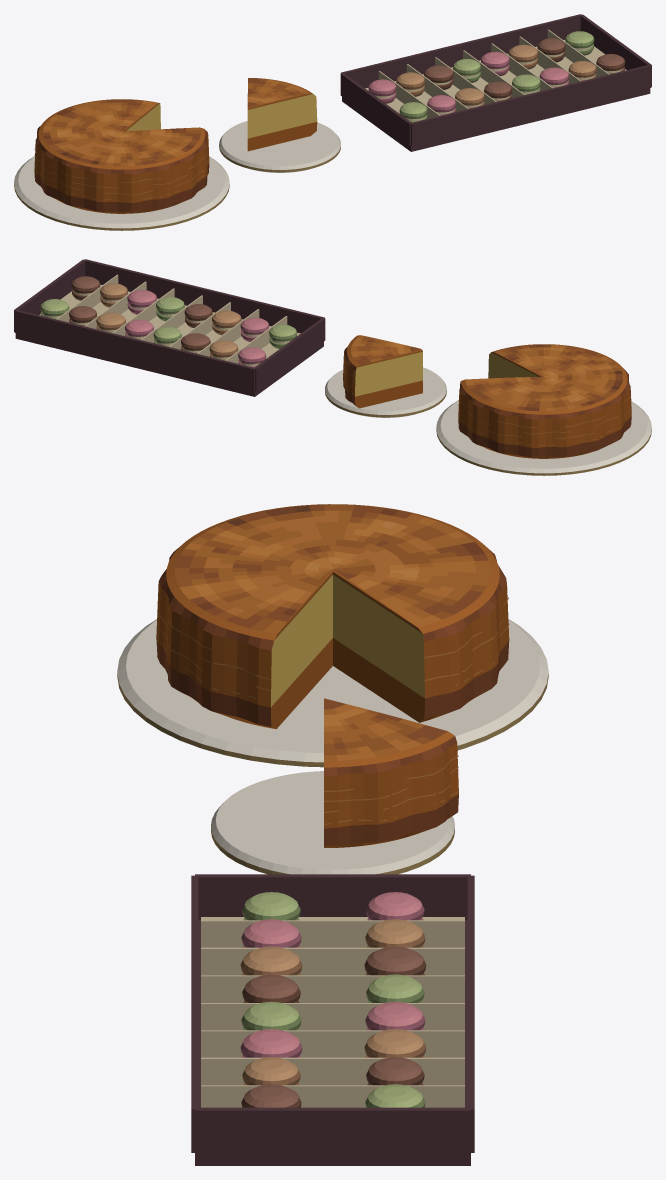
File: desserts.glb
The picture shows the model from 3 angles, top to bottom: view 1: azimuth 30°, elevation 25°; view 2: azimuth 150°, elevation 25°; view 3: azimuth 270°, elevation 25°; orthographic projection. The views are drawn at different scales.
Visible parts, largest first — view 1: Surface; view 2: Surface; view 3: Surface.
Boxes of the visible parts, left/top/right/bottom form: Surface: left=14, top=14, right=651, bottom=230; Surface: left=14, top=259, right=651, bottom=475; Surface: left=117, top=504, right=548, bottom=1165.
Size of the model in its own units: 1.53 by 0.1416 by 0.484.
